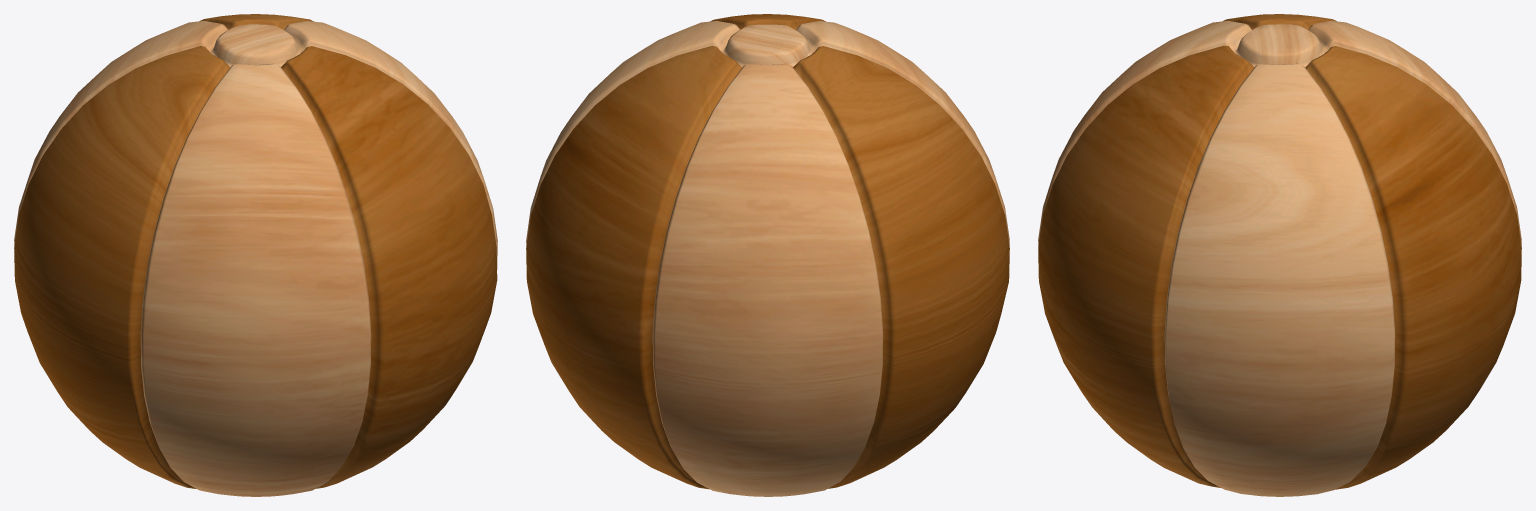
File: ball.fbx
3 renders of one model, left to right at view 1: azimuth 30°, elevation 25°; view 2: azimuth 150°, elevation 25°; view 3: azimuth 270°, elevation 25°, orthographic.
Visible parts, largest first — view 1: node_id89; view 2: node_id89; view 3: node_id89.
Boxes of the visible parts, x1,y1,x2,y2 form: node_id89: (14,14,497,496); node_id89: (526,14,1009,496); node_id89: (1038,14,1521,496).
Bounding box in the file's own units: 0.512 × 0.5093 × 0.5139.
1 material, 1 textured.
